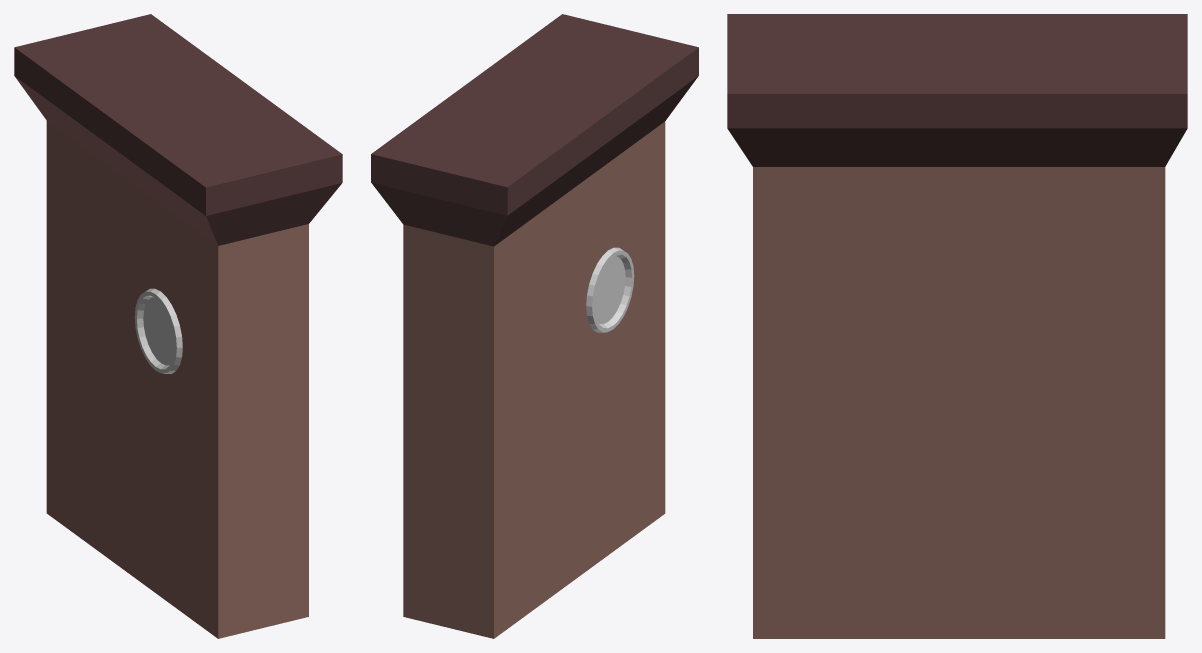
File: DarkRoseWoodMechSmallControlPanel1.fbx
3 views of the same model, side by side, from view 1: azimuth 30°, elevation 25°; view 2: azimuth 150°, elevation 25°; view 3: azimuth 270°, elevation 25° (orthographic). The views are drawn at different scales.
Parts seen in each view (by area): view 1: DarkRoseWoodMechSmallControlPanel1; view 2: DarkRoseWoodMechSmallControlPanel1; view 3: DarkRoseWoodMechSmallControlPanel1.
Boxes of the visible parts, x1=… form: DarkRoseWoodMechSmallControlPanel1: x1=14, y1=14, x2=342, y2=638; DarkRoseWoodMechSmallControlPanel1: x1=371, y1=14, x2=698, y2=638; DarkRoseWoodMechSmallControlPanel1: x1=727, y1=14, x2=1187, y2=638.
Size of the model in its own units: 52.22 by 170 by 127.
Materials: 2 (1 with a texture image).
